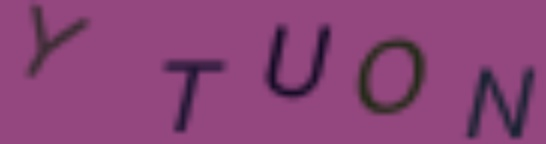N: (458, 62, 538, 143)
O: (351, 35, 429, 120)
T: (150, 55, 236, 136)
U: (261, 18, 335, 102)
Y: (16, 1, 91, 84)
